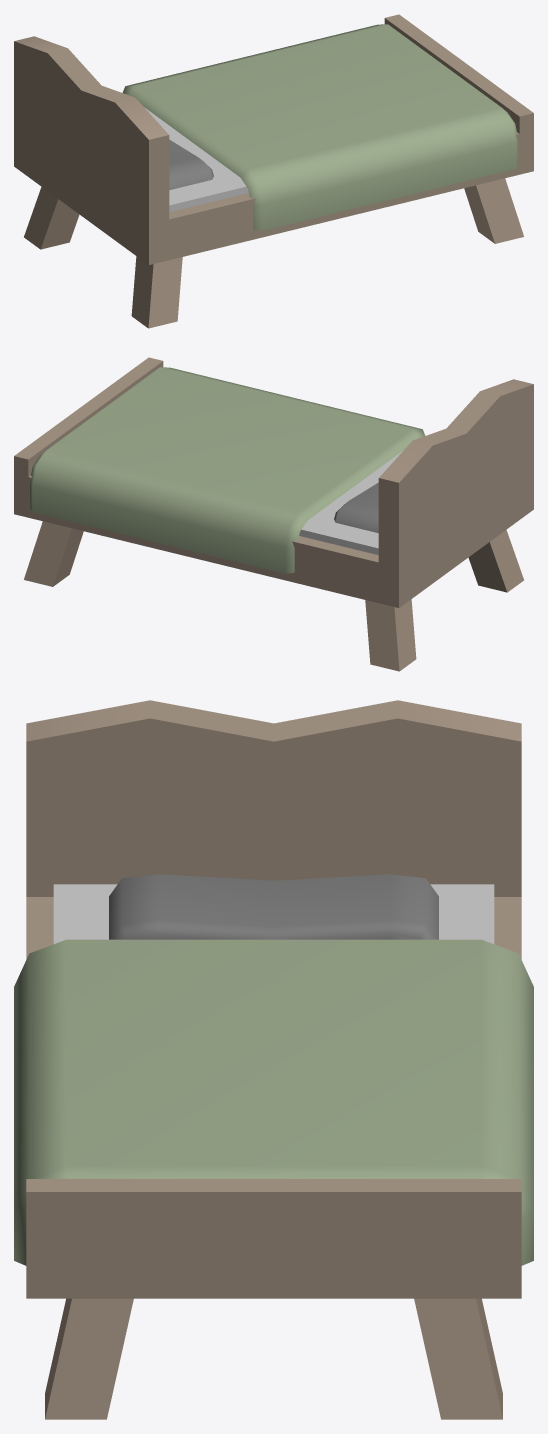
File: Bed_Mesh.fbx
The picture shows the model from 3 angles, top to bottom: view 1: azimuth 30°, elevation 25°; view 2: azimuth 150°, elevation 25°; view 3: azimuth 270°, elevation 25°; orthographic projection. The views are drawn at different scales.
Visible parts, largest first — view 1: Bed; view 2: Bed; view 3: Bed.
Boxes of the visible parts, x1,y1,x2,y2 form: Bed: [14, 14, 533, 328]; Bed: [14, 357, 533, 671]; Bed: [14, 700, 533, 1419].
Bounding box in the file's own units: 9.89 × 5.06 × 6.3.
